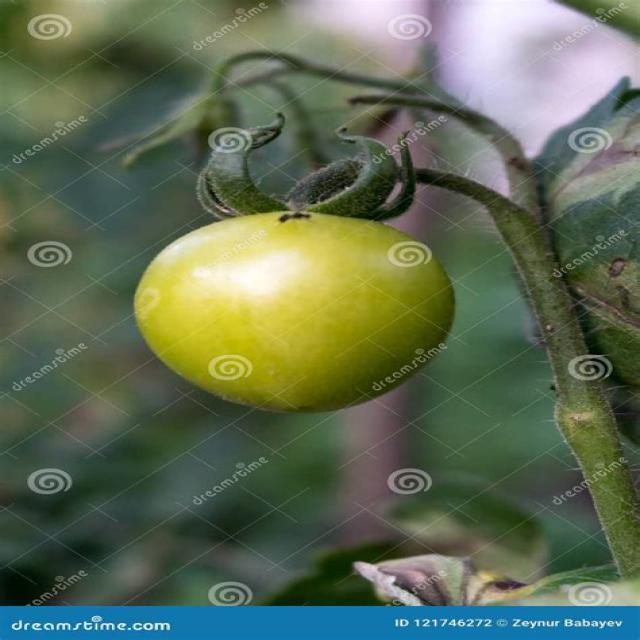Tomato: (132, 212, 455, 416)
